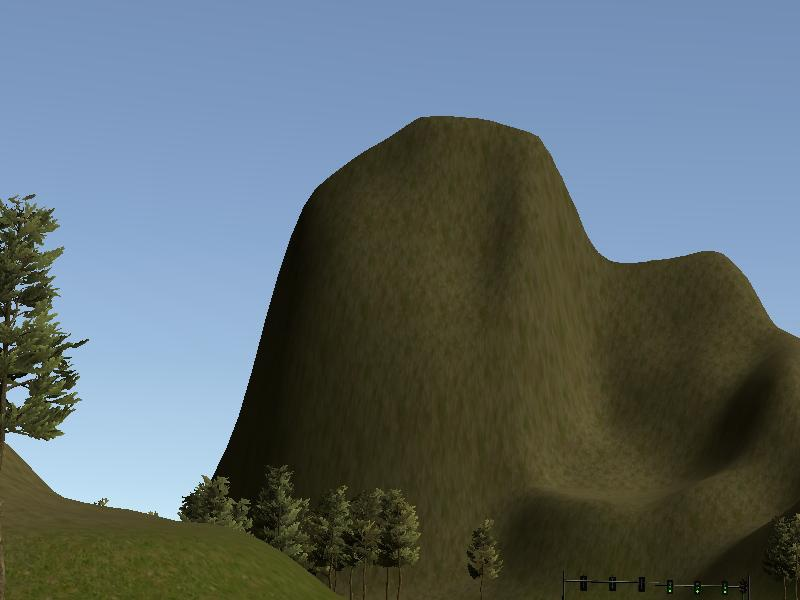Green: (720, 579, 730, 597), (665, 578, 674, 595), (693, 578, 701, 595)
